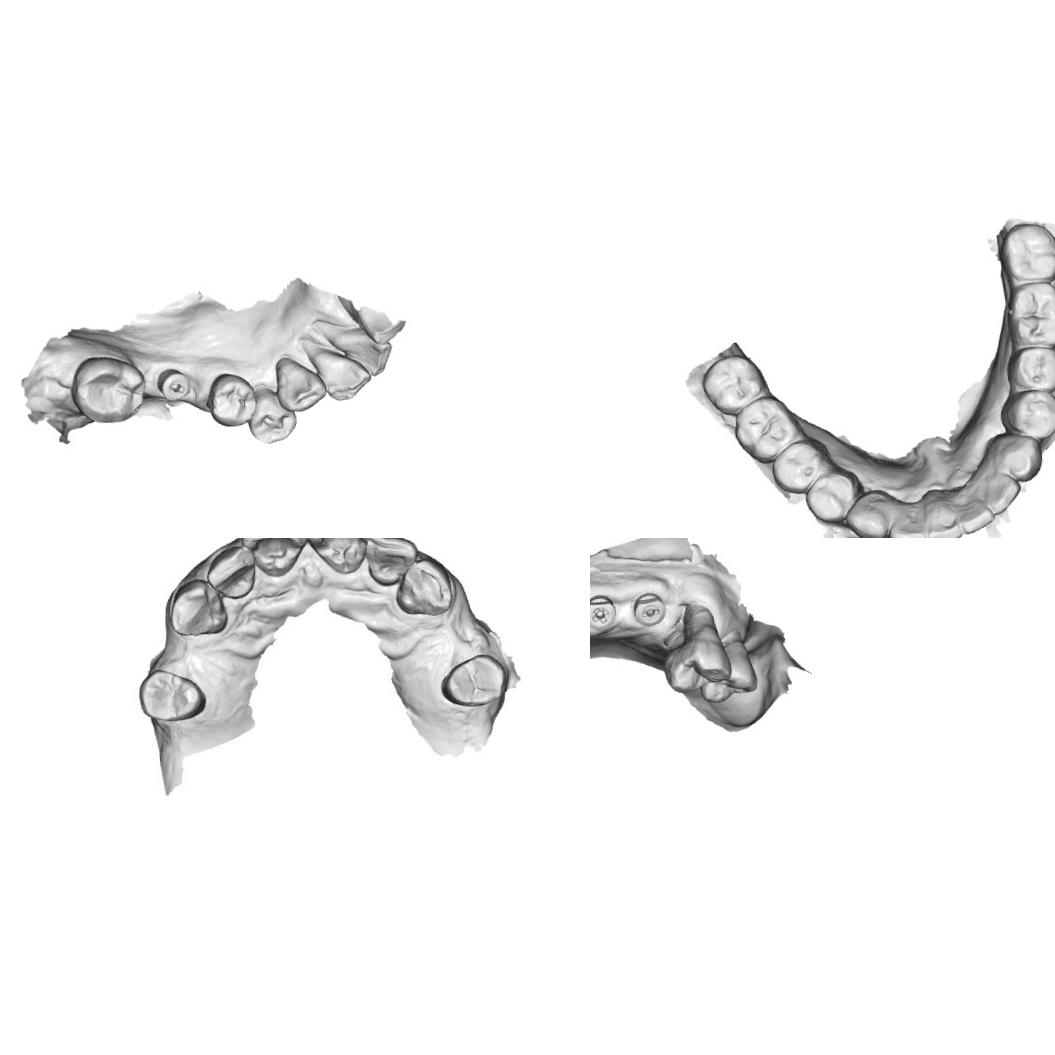canine: (164, 578, 230, 643), (269, 350, 330, 415), (388, 560, 453, 616), (986, 428, 1047, 485), (839, 485, 896, 538)
implant_minus: (628, 588, 668, 631), (154, 365, 192, 406)
implant_plus: (590, 589, 623, 638)
incisor: (307, 341, 374, 404), (326, 324, 394, 381), (204, 542, 262, 601), (239, 538, 312, 577), (969, 463, 1020, 518), (360, 538, 418, 586), (950, 478, 996, 536), (302, 538, 376, 574), (881, 491, 929, 538), (921, 488, 966, 538)
molar: (64, 350, 152, 429), (728, 390, 803, 468), (698, 348, 770, 420), (994, 216, 1055, 287), (1003, 280, 1055, 351)
premolar: (656, 630, 732, 698), (436, 650, 510, 710), (134, 665, 208, 724), (694, 640, 760, 706), (768, 435, 832, 498), (800, 464, 863, 526), (202, 367, 260, 431), (243, 382, 296, 446), (996, 386, 1055, 442), (1002, 341, 1055, 396)
